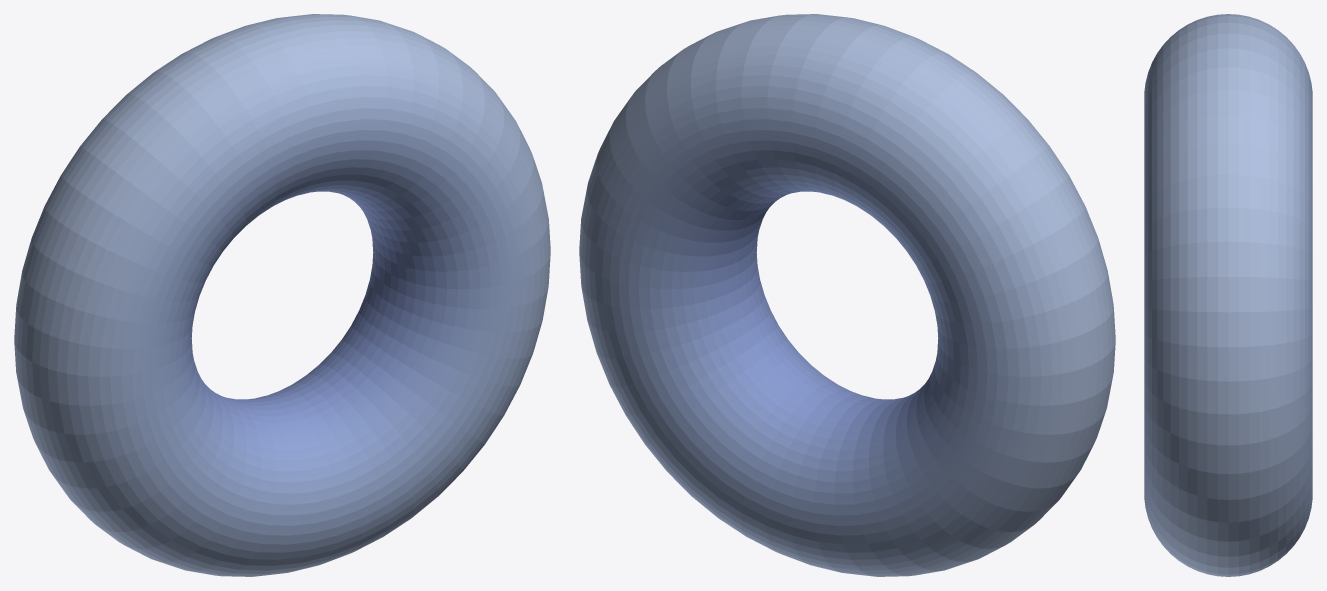
3 views of the same model, side by side, from view 1: azimuth 30°, elevation 25°; view 2: azimuth 150°, elevation 25°; view 3: azimuth 270°, elevation 25° (orthographic). The views are drawn at different scales.
Visible parts, largest first — view 1: world; view 2: world; view 3: world.
Boxes of the visible parts, box(x1,y1,x2,y2) form: world: box(14, 14, 550, 576); world: box(579, 14, 1115, 576); world: box(1144, 14, 1312, 576).
Size of the model in its own units: 20 by 19.96 by 5.99.
